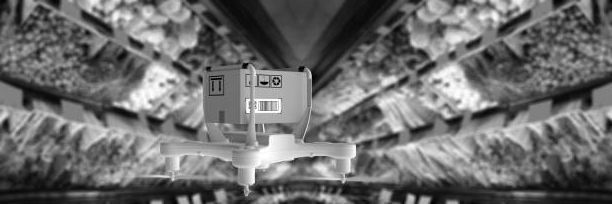Drone: (147, 130, 363, 200)
